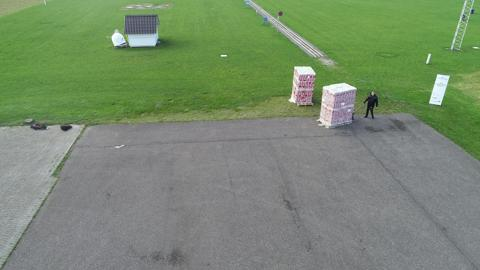RockwoolPallet: (293, 66, 316, 106)
